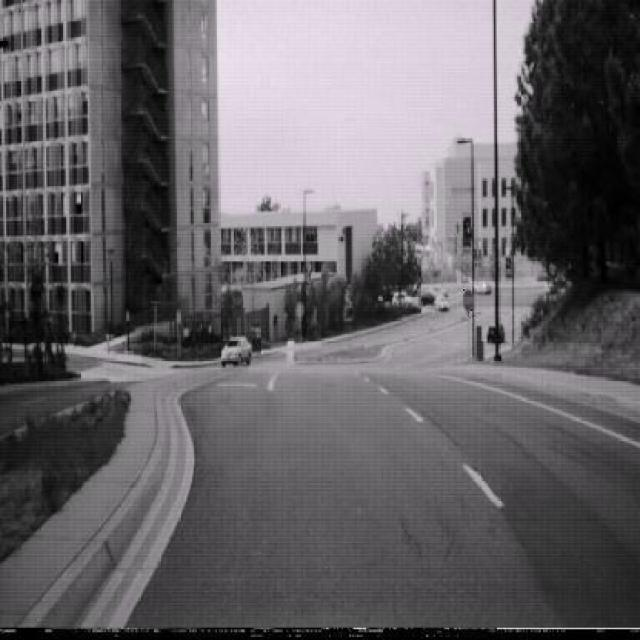stop: (462, 288, 474, 314)
